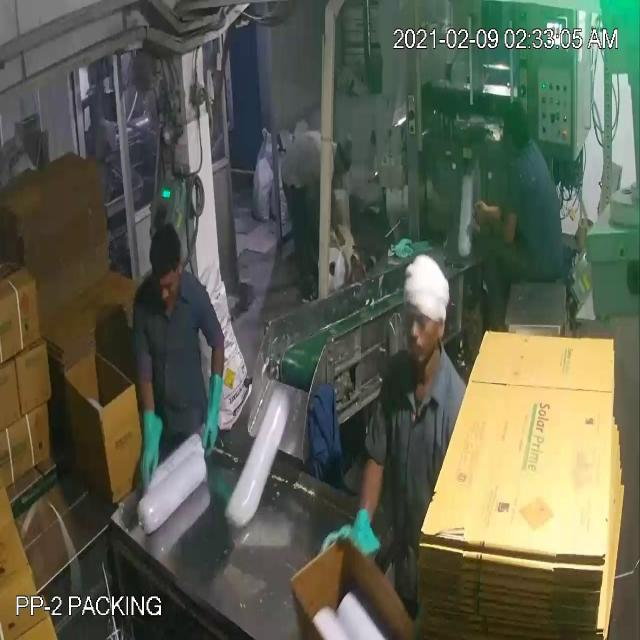gloves: (314, 503, 390, 582), (121, 404, 172, 494), (191, 359, 233, 460)
no-gloves: (462, 191, 526, 249)
